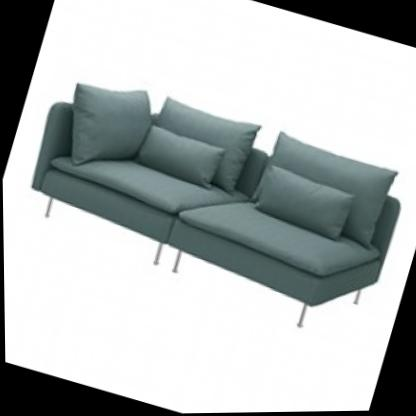Sofa: (1, 38, 416, 368)
